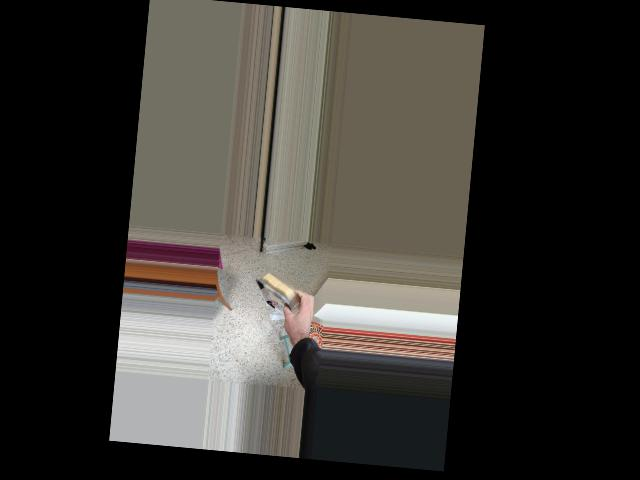cheese: (243, 261, 324, 328)
